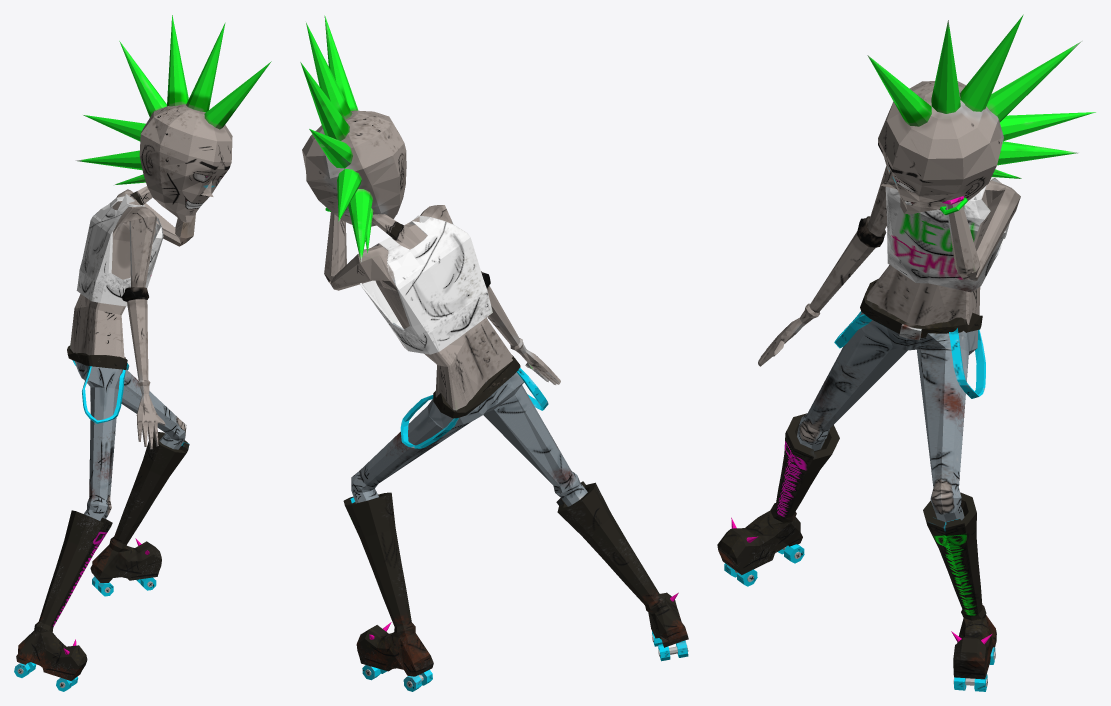
The model's file is punkAnimation_000020.obj.
The picture shows the model from 3 angles, left to right: view 1: azimuth 30°, elevation 25°; view 2: azimuth 150°, elevation 25°; view 3: azimuth 270°, elevation 25°; orthographic projection. The views are drawn at different scales.
Visible parts, largest first — view 1: Cube.004_Cube.003; view 2: Cube.004_Cube.003; view 3: Cube.004_Cube.003.
Part boxes in pixels (x1=…): Cube.004_Cube.003: x1=14, y1=15, x2=271, y2=691; Cube.004_Cube.003: x1=300, y1=15, x2=688, y2=691; Cube.004_Cube.003: x1=717, y1=14, x2=1095, y2=691.
Size of the model in its own units: 3.65 by 6.66 by 3.2.
